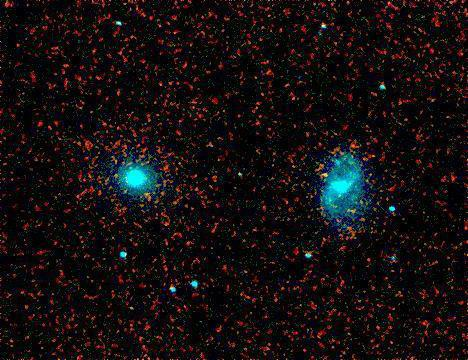star: (308, 161, 338, 191)
